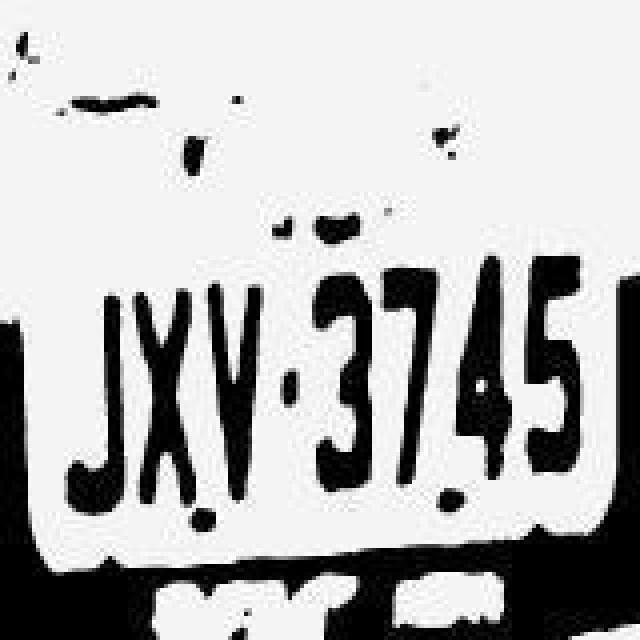3: (310, 270, 378, 482)
4: (450, 242, 518, 478)
5: (518, 232, 594, 480)
7: (378, 264, 446, 488)
J: (58, 292, 126, 516)
V: (208, 280, 272, 504)
X: (132, 286, 196, 514)
